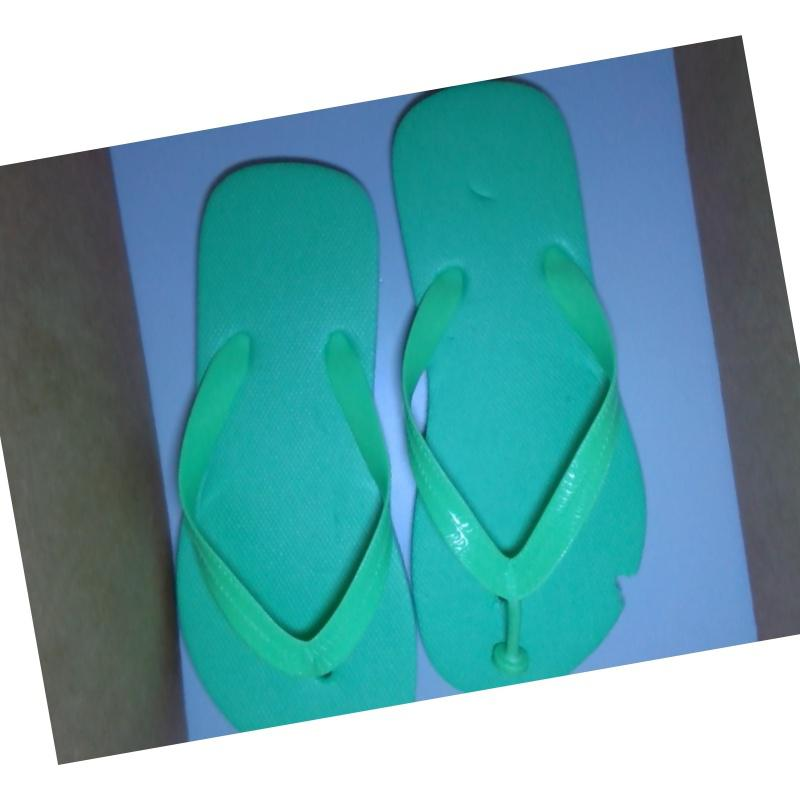chipped: (602, 555, 652, 627)
detached: (478, 622, 541, 683)
